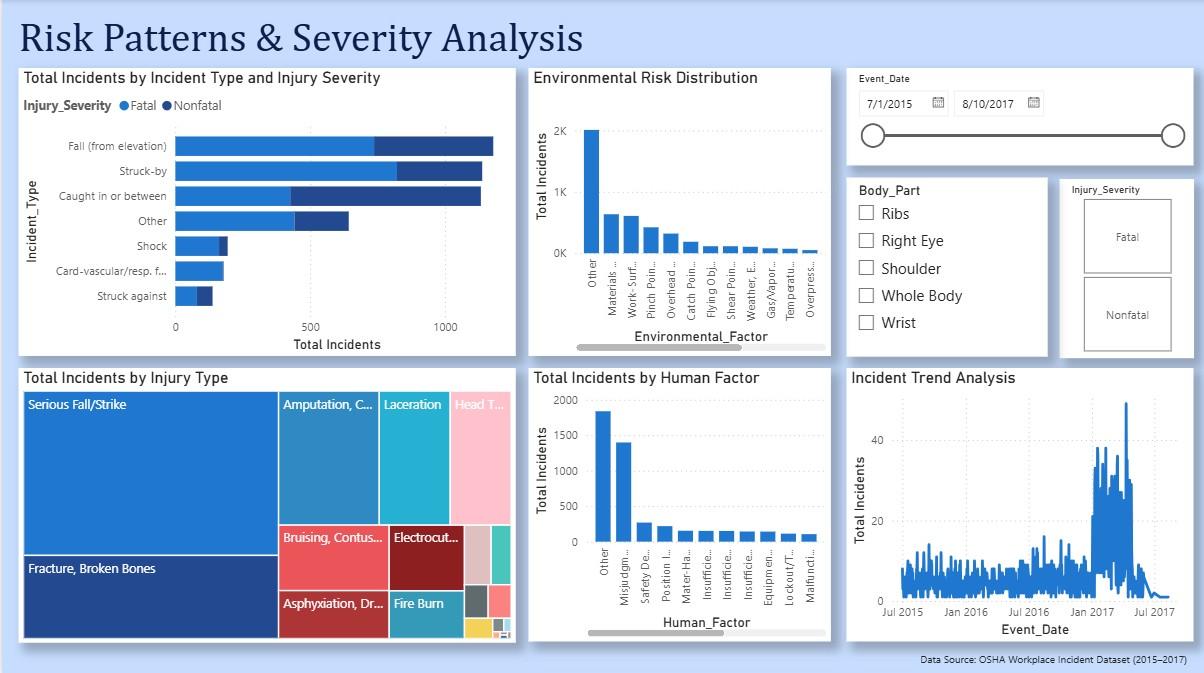

This screenshot's page, from the dashboard's own definition file:
{"tool":"powerbi","page":{"name":"Risk Patterns & Severity Analysis","canvas":[1280,720],"ordinal":2},"visuals":[{"type":"slicer","fields":{"Values":["osha.Event_Date"]},"box":[895.2,73.3,367.8,103.4],"z":0},{"type":"slicer","fields":{"Values":["osha.Injury_Severity"]},"box":[1120.7,190.3,142.4,189.8],"z":1000},{"type":"slicer","fields":{"Values":["osha.Body_Part"]},"box":[895.2,188.6,213.6,189.8],"z":2000},{"type":"barChart","title":"Total Incidents by Incident Type and Injury Severity","fields":{"Category":["osha.Incident_Type"],"Y":["osha.Total_Incidents"],"Series":["osha.Injury_Severity"]},"box":[17.3,73.3,527.1,305.1],"z":3000},{"type":"treemap","title":"Total Incidents by Injury Type","fields":{"Group":["osha.Injury_Type"],"Values":["osha.Total_Incidents"]},"box":[17.3,392,527.1,291.5],"z":4000},{"type":"columnChart","title":"Environmental Risk Distribution","fields":{"Category":["osha.Environmental_Factor"],"Y":["osha.Total_Incidents"]},"box":[557.9,73.3,320.3,305.1],"z":5000},{"type":"columnChart","title":"Total Incidents by Human Factor","fields":{"Category":["osha.Human_Factor"],"Y":["osha.Total_Incidents"]},"box":[557.9,392,320.3,289.8],"z":6000},{"type":"lineChart","title":"Incident Trend Analysis","fields":{"Category":["osha.Event_Date"],"Y":["osha.Total_Incidents"]},"box":[895.2,392,367.8,289.8],"z":7000},{"type":"textbox","box":[13.2,9.4,644.4,68],"z":8000},{"type":"textbox","box":[969.3,683.5,310.8,32.4],"z":8001}]}

Visuals, with their boxes in screenshot pixels (x1, y1, x2, y2), scaled from the page's 1280x720 canvas onto the 1204x673 screenshot:
slicer - osha.Event_Date: select_region(842, 69, 1188, 165)
slicer - osha.Injury_Severity: select_region(1054, 178, 1188, 355)
slicer - osha.Body_Part: select_region(842, 176, 1043, 354)
"Total Incidents by Incident Type and Injury Severity" barChart: select_region(16, 69, 512, 354)
"Total Incidents by Injury Type" treemap: select_region(16, 366, 512, 639)
"Environmental Risk Distribution" columnChart: select_region(525, 69, 826, 354)
"Total Incidents by Human Factor" columnChart: select_region(525, 366, 826, 637)
"Incident Trend Analysis" lineChart: select_region(842, 366, 1188, 637)
textbox: select_region(12, 9, 619, 72)
textbox: select_region(912, 639, 1203, 669)
